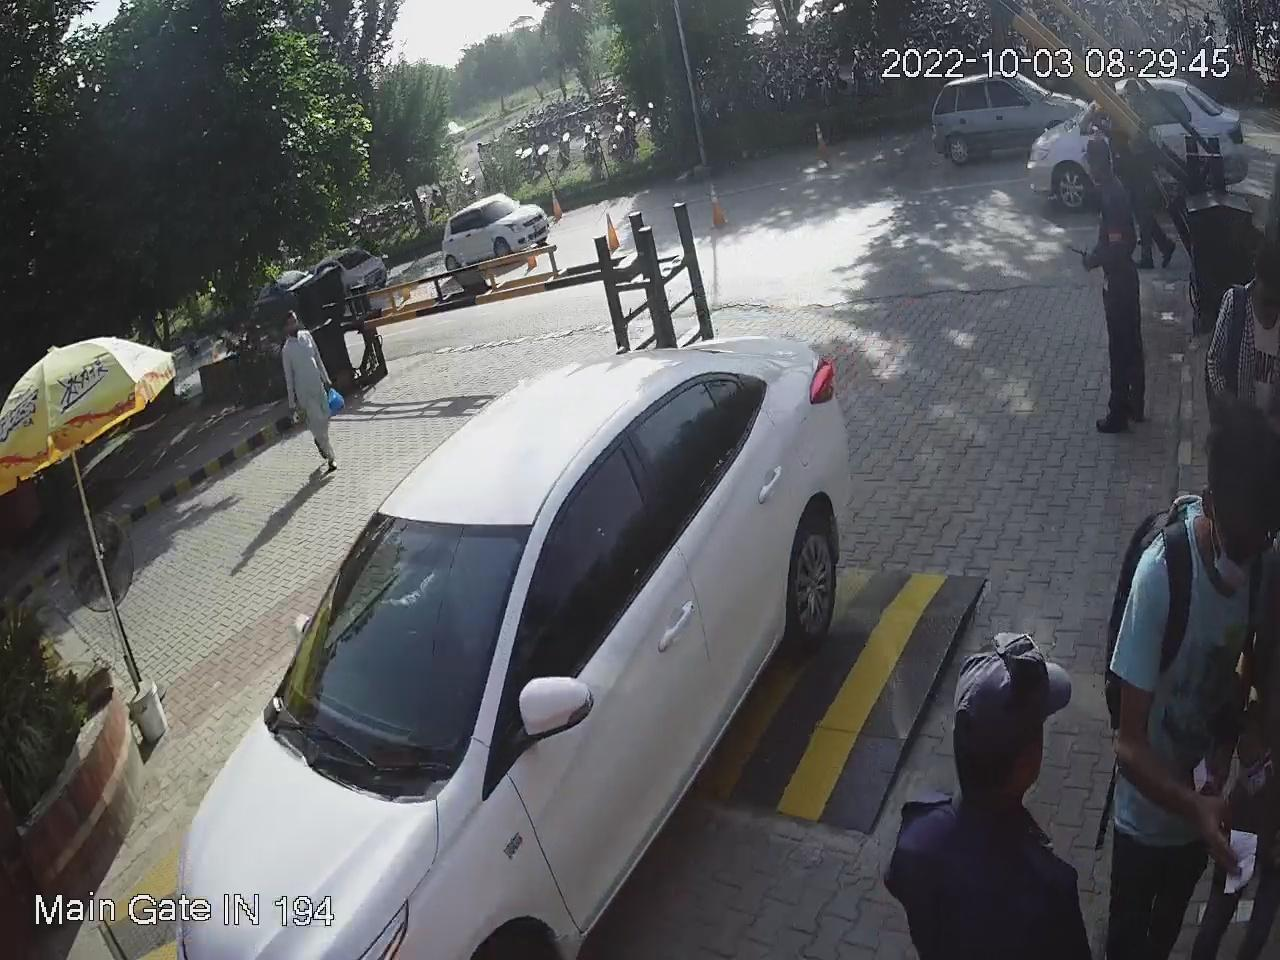windshield: (268, 507, 538, 785)
